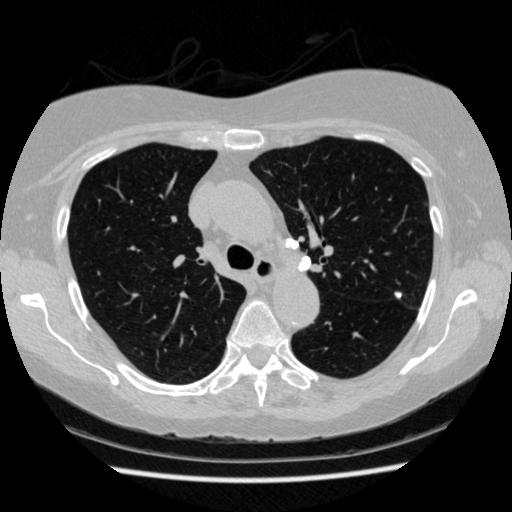nodule: (391, 287, 405, 301)
